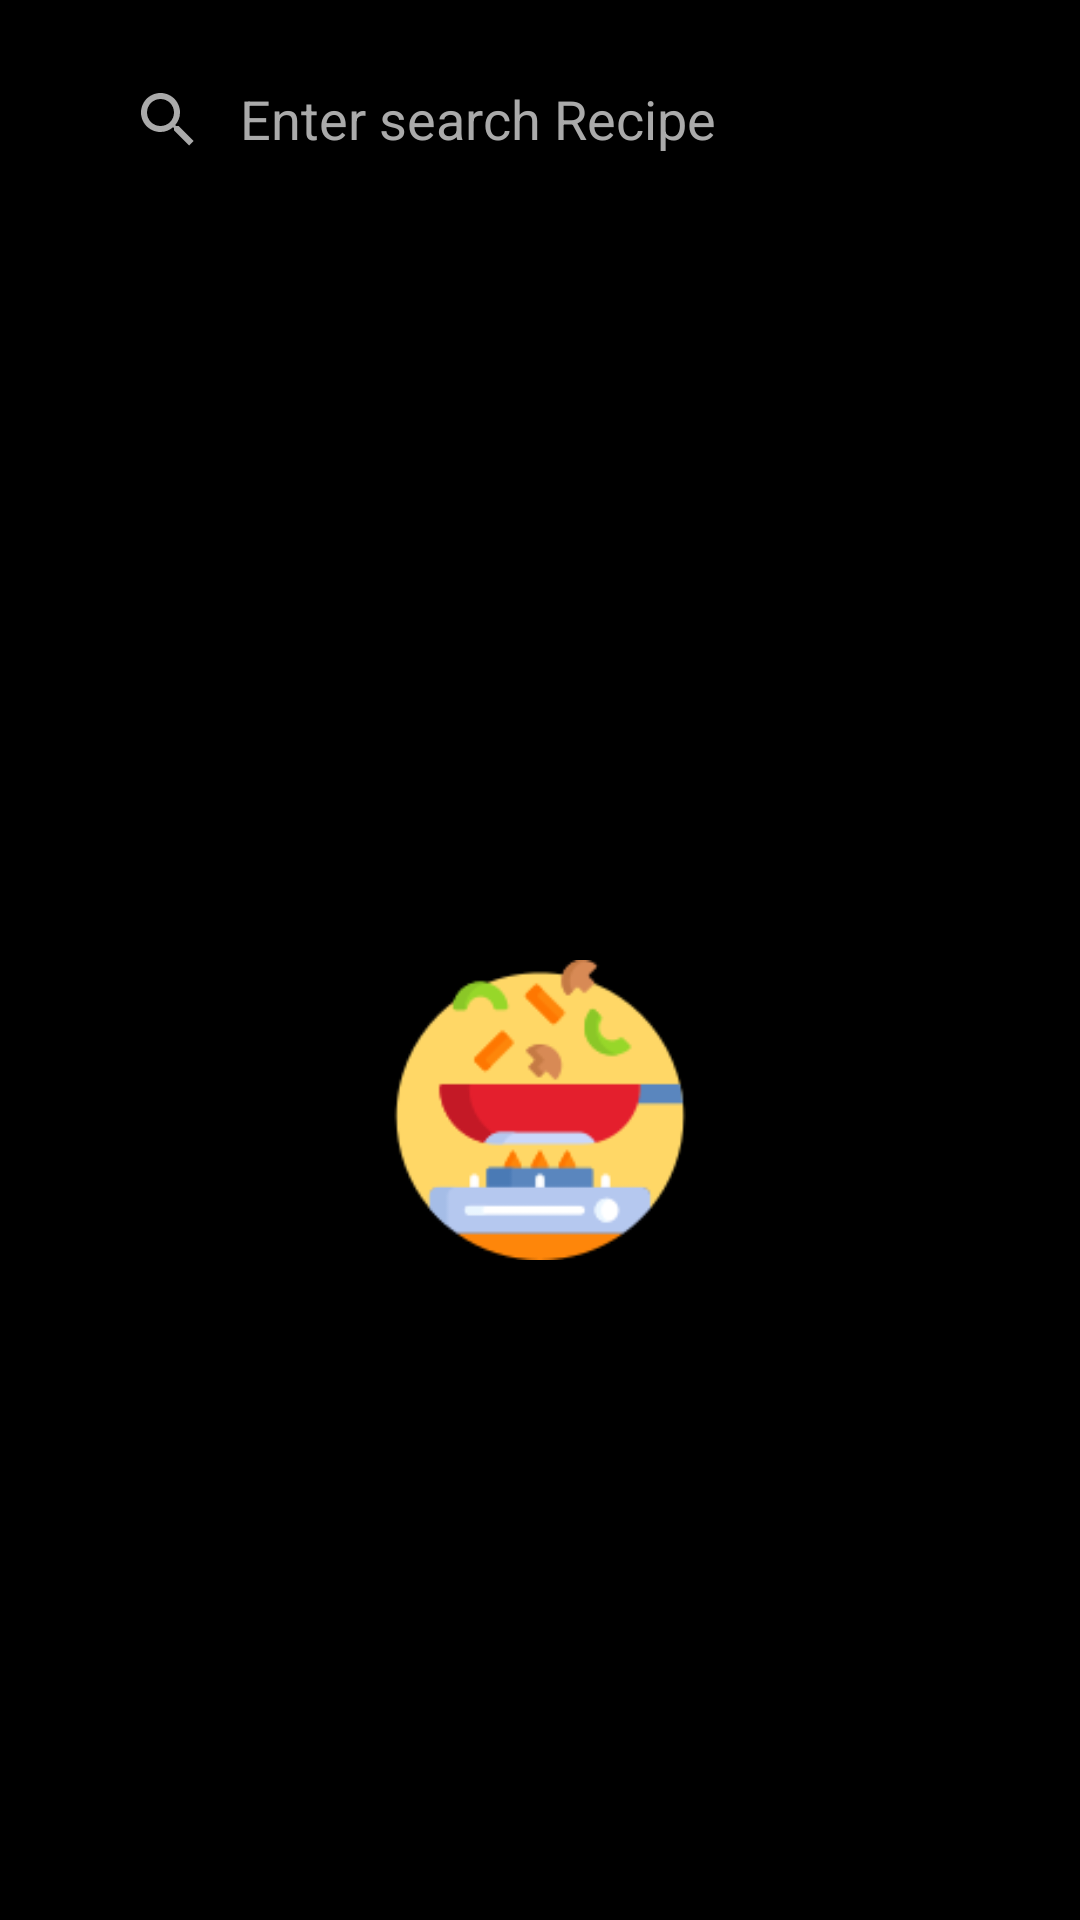

Where icons sit on this 1080 × 1920 app screen, as rect(x1, y1, x2, y2):
recipe: rect(394, 960, 686, 1260)
